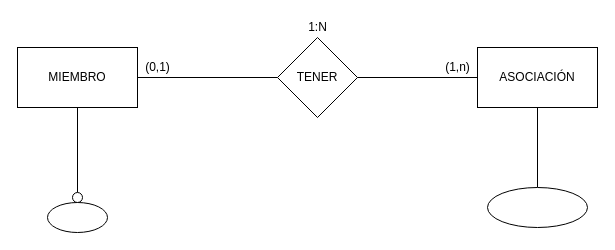
The diagram is 615 pixels wide and 250 high, and some of its shapes have lost their labels. Here are the shapes that lost their labels. From the top down, the box of each, then its label:
(46, 202, 108, 232): Nº Socio
(486, 186, 588, 228): Nº Registro
